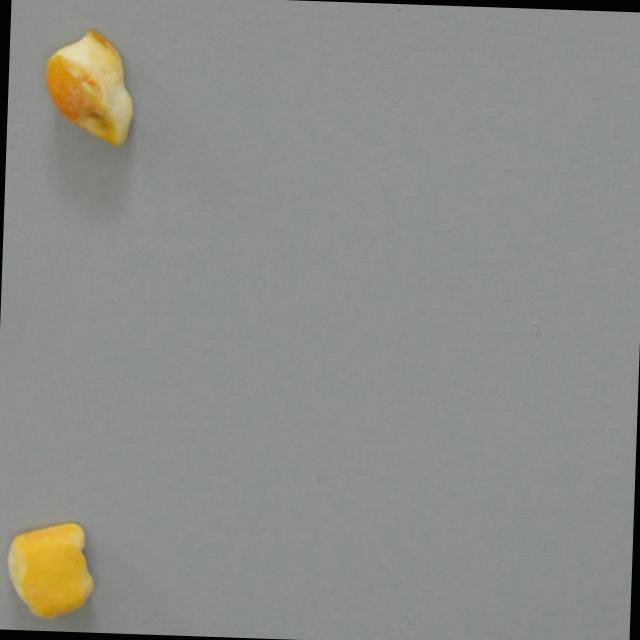dañado: (29, 33, 142, 150), (0, 509, 105, 626)
